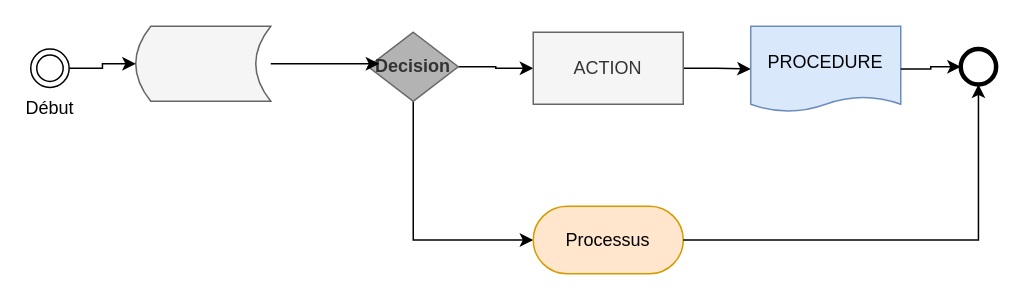
The diagram is 1023 pixels wide and 300 high, and some of its shapes have lost their labels. Each missing label, with the centre of its shape:
"Document ou information" belongs at [202,63].
"Fin" belongs at [977,66].
